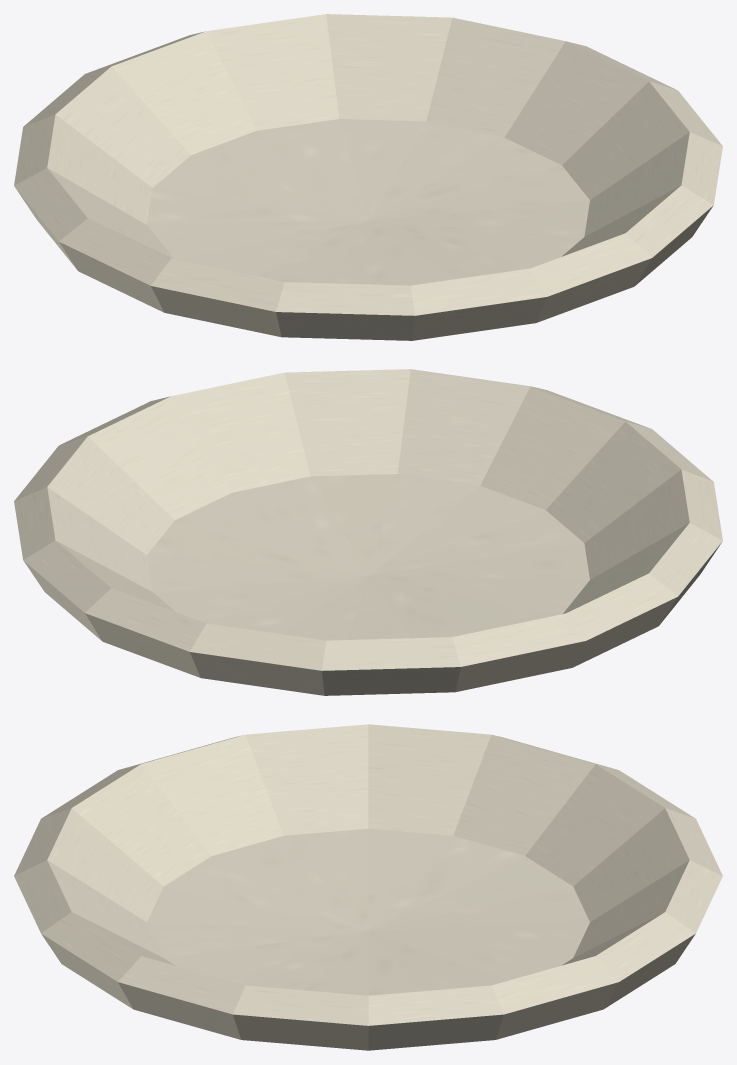
The model's file is MD_59_DinnerPlate.fbx.
The picture shows the model from 3 angles, top to bottom: view 1: azimuth 30°, elevation 25°; view 2: azimuth 150°, elevation 25°; view 3: azimuth 270°, elevation 25°; orthographic projection.
Parts seen in each view (by area): view 1: MD_59_DinnerPlate_plate; view 2: MD_59_DinnerPlate_plate; view 3: MD_59_DinnerPlate_plate.
Boxes of the visible parts, x1,y1,x2,y2 form: MD_59_DinnerPlate_plate: (14,14,722,340); MD_59_DinnerPlate_plate: (14,369,722,695); MD_59_DinnerPlate_plate: (14,724,722,1050).
Bounding box in the file's own units: 0.32 × 0.043 × 0.32.
1 material, 1 textured.
